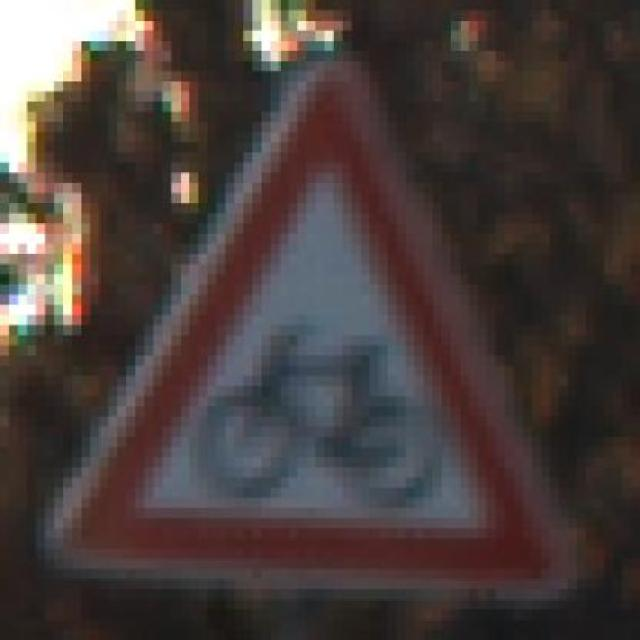CYCLE ROUTE AHEAD WARNING: (35, 30, 577, 599)
